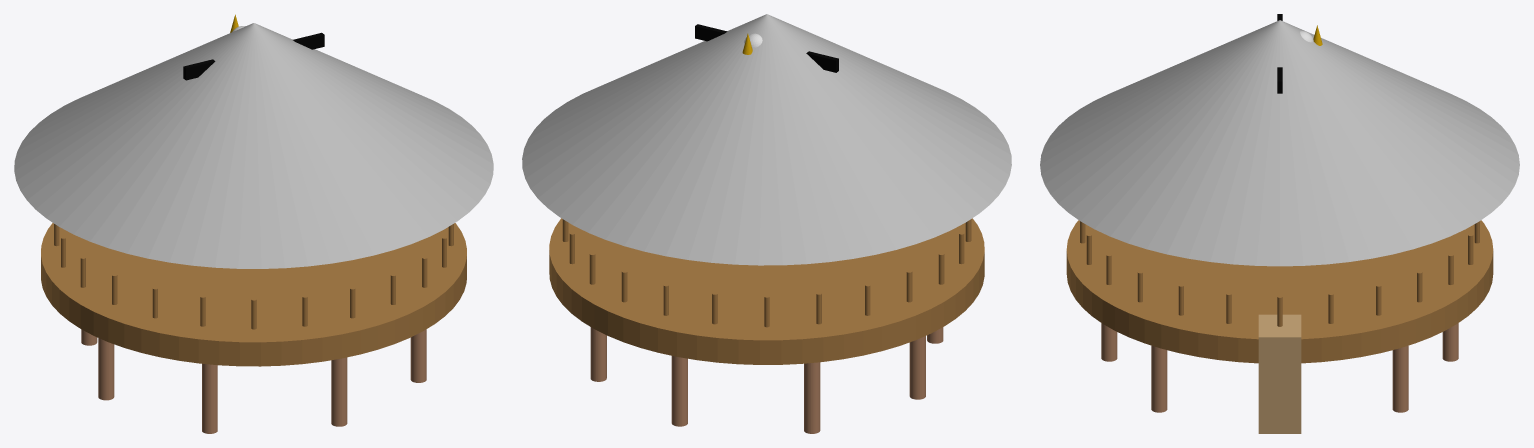
The model's file is rumah_adat_jagoi_babang.glb.
The picture shows the model from 3 angles, left to right: view 1: azimuth 30°, elevation 25°; view 2: azimuth 150°, elevation 25°; view 3: azimuth 270°, elevation 25°; orthographic projection. The views are drawn at different scales.
Parts seen in each view (by area): view 1: world; view 2: world; view 3: world.
Boxes of the visible parts, left/top/right/bottom form: world: left=14, top=14, right=493, bottom=433; world: left=522, top=14, right=1011, bottom=433; world: left=1040, top=14, right=1519, bottom=433.
Bounding box in the file's own units: 0.9 × 0.7 × 0.9.
